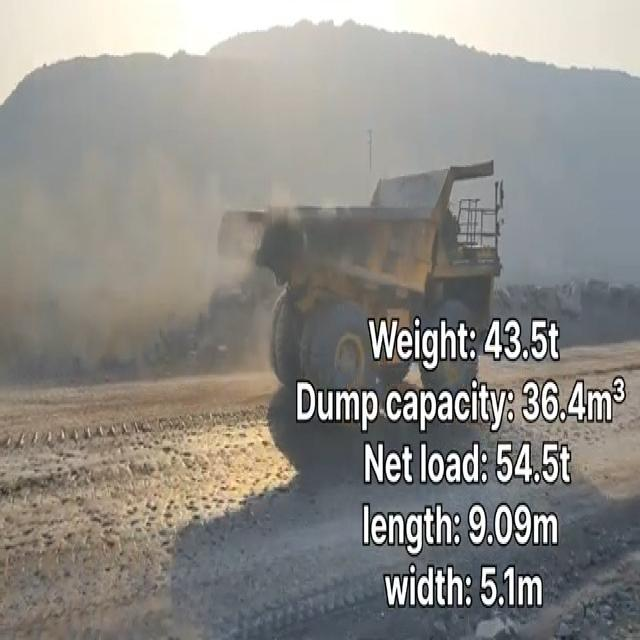dump_truck: (266, 198, 367, 380)
